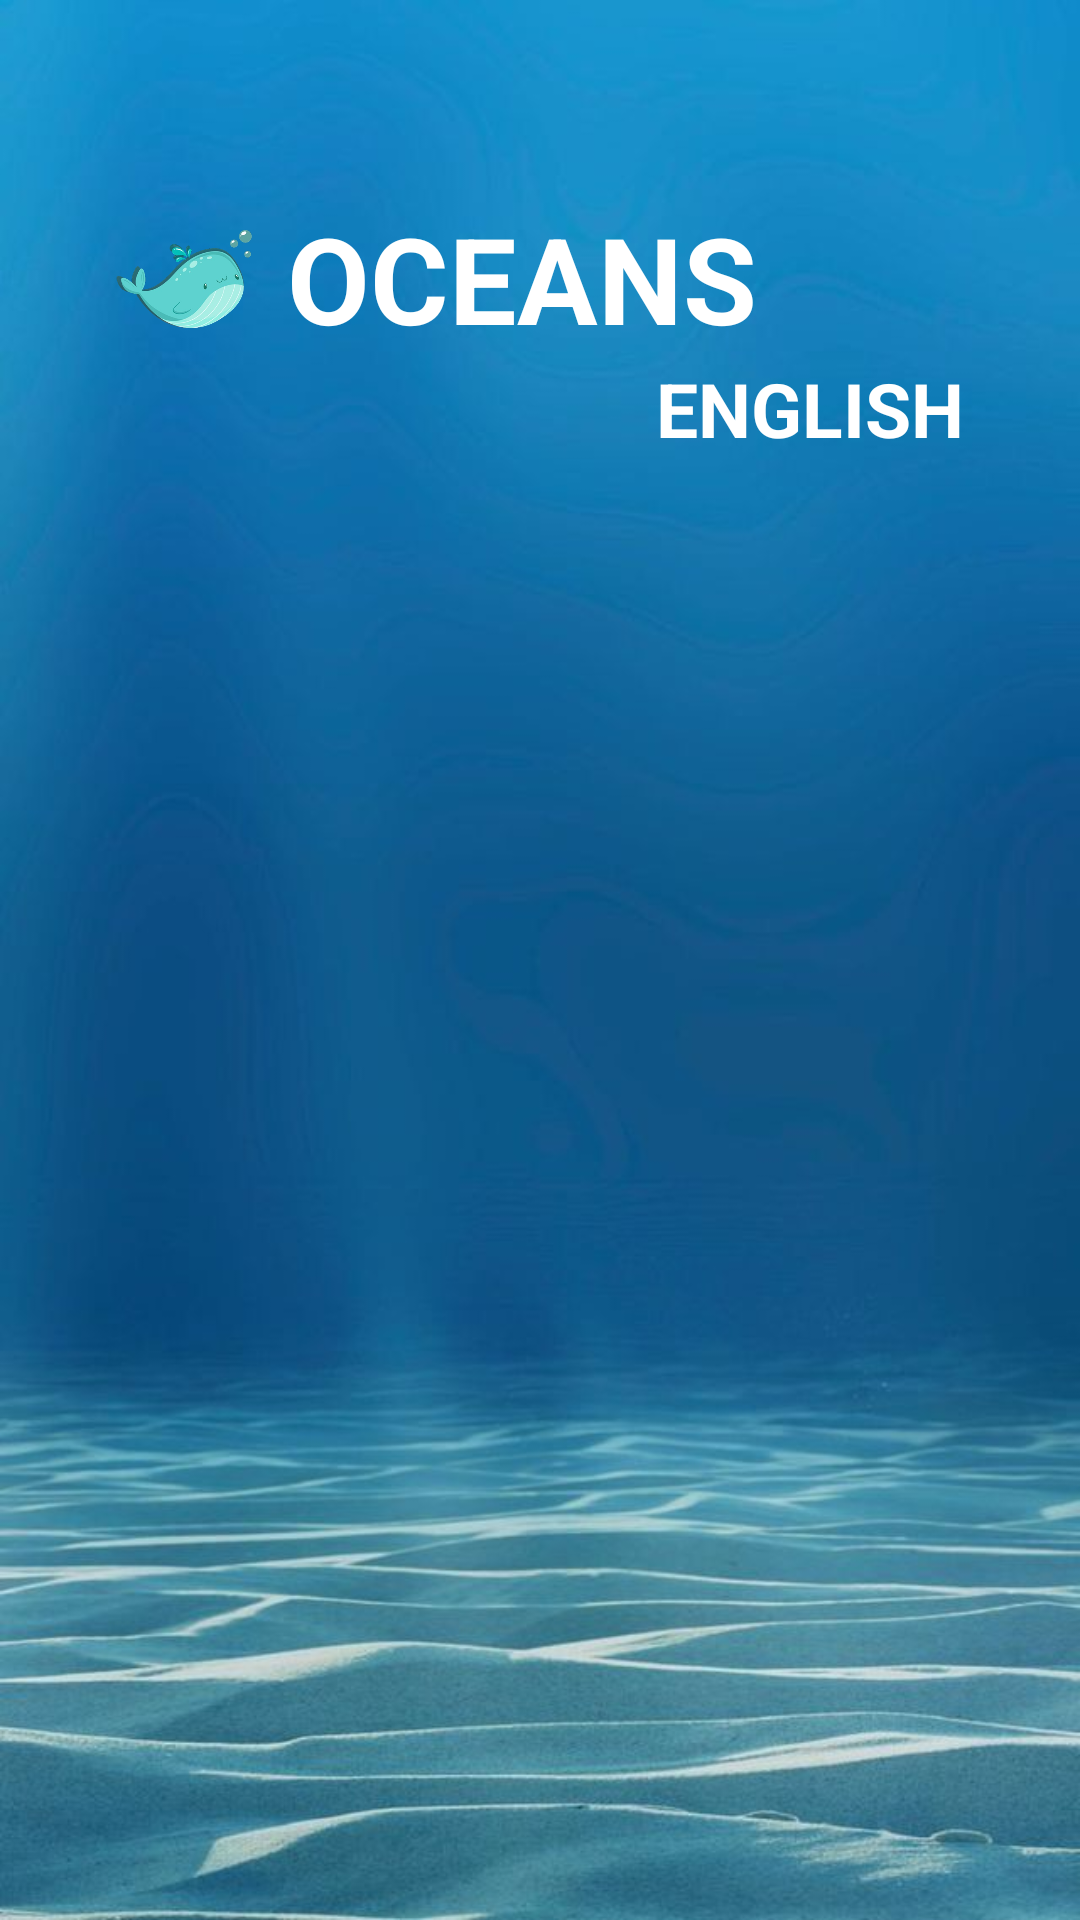

Screen size 1080px×1920px. Icon name, then its box in pixels as (x1, y1, x2, y2):
Whale Icon: (116, 230, 252, 328)
